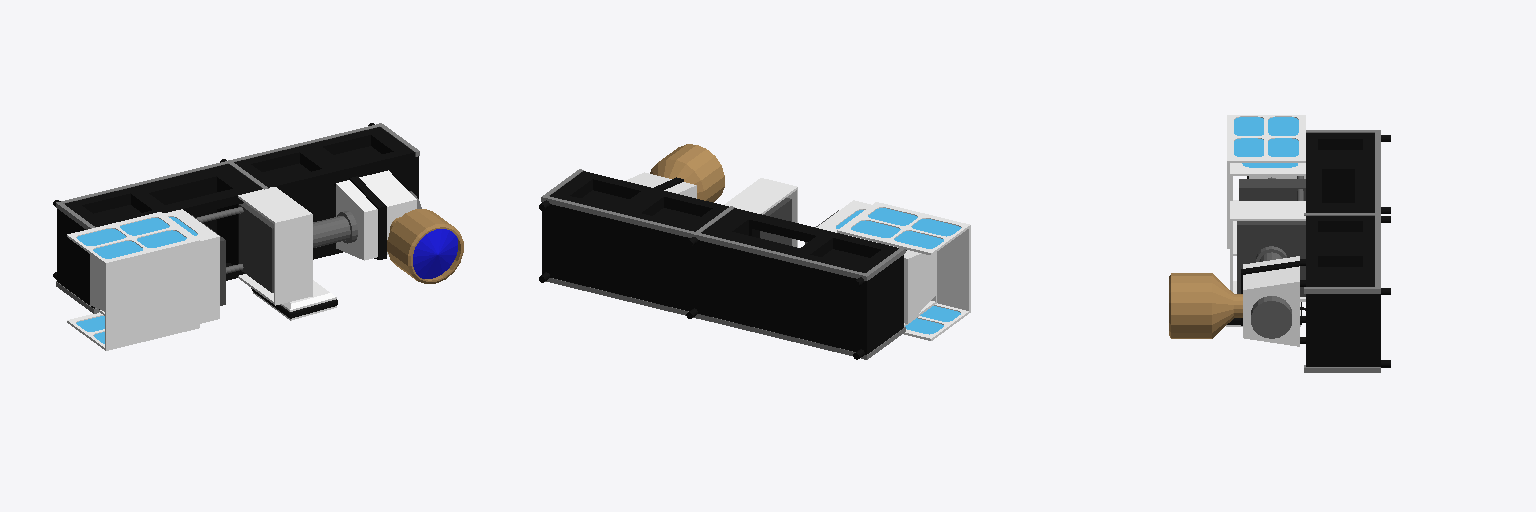
File: 注塑机.obj
3 renders of one model, left to right at view 1: azimuth 30°, elevation 25°; view 2: azimuth 150°, elevation 25°; view 3: azimuth 270°, elevation 25°, orthographic.
Parts seen in each view (by area): view 1: GeoContainer; view 2: GeoContainer; view 3: GeoContainer.
Part boxes in pixels (x1,y1,x2,y2): GeoContainer: (53,123,463,350); GeoContainer: (539,144,970,359); GeoContainer: (1169,115,1390,372).
Size of the model in its own units: 3798 by 1133 by 2076.